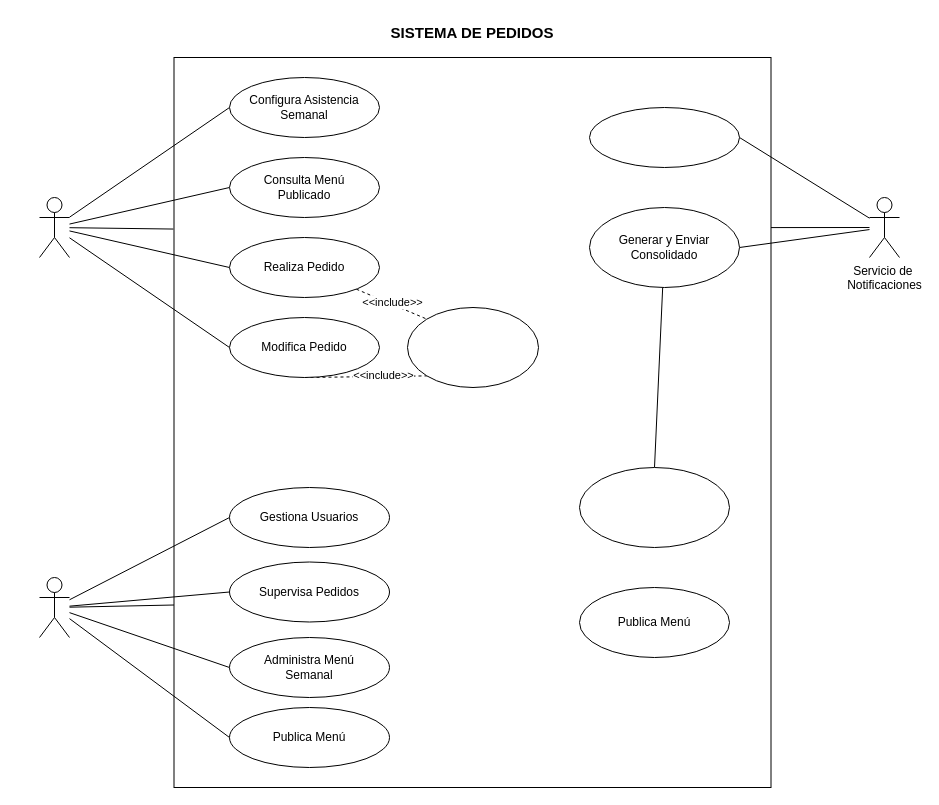
Some shapes in this 939 by 805 pixel diagram are drawn without their labels. Here are the shapes that lost their labels. From the top down, the centre of each, then its label:
At point 664,137: "Enviar Recordatorio".
At point 54,227: "Empleado".
At point 472,347: "Validar Pedido Antes de Confirmar".
At point 654,507: "Recibe Lista de Pedidos".
At point 54,607: "Administrador".
